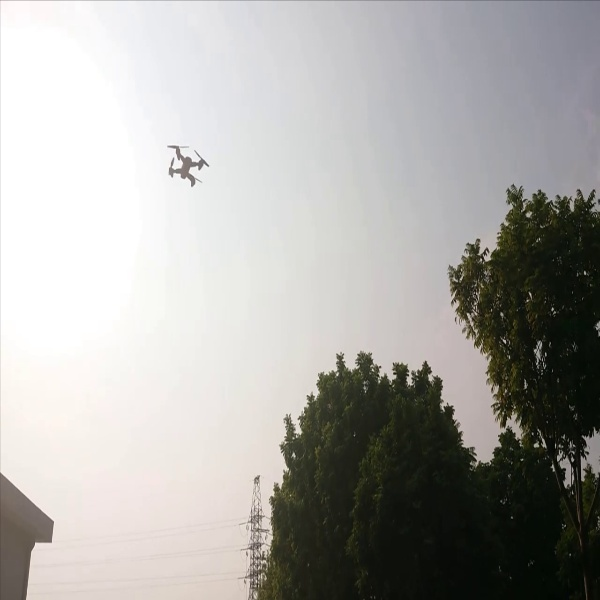drone: (158, 140, 215, 188)
